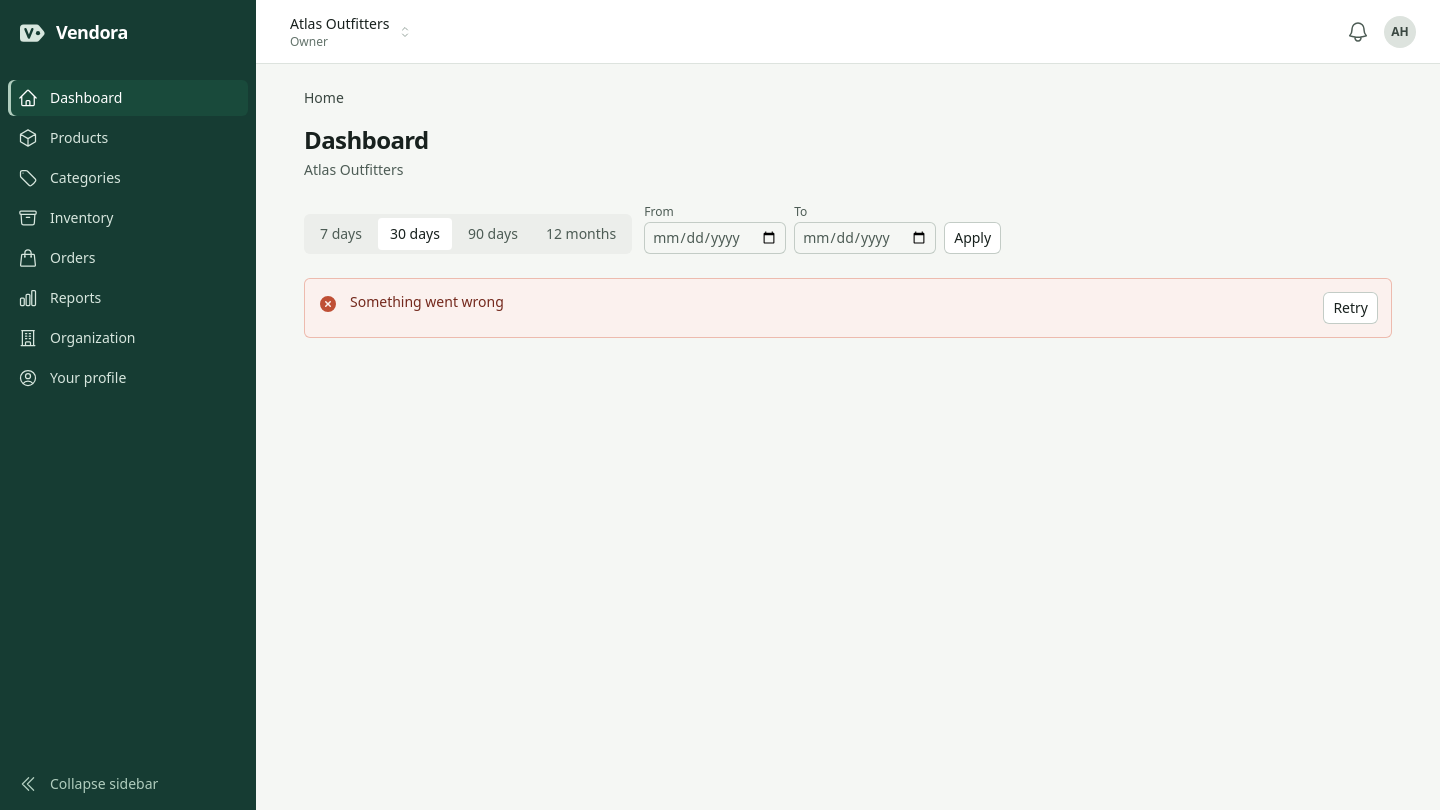
Test: dashboard › shows an error with a retry instead of stale or invented numbers
Expected: the text "Something went wrong" is shown, x1=350 y1=292 x2=504 y2=311
Expected: the text "Revenue" is not shown
Click the button "Retry".
click(1351, 308)  # box x1=1323 y1=292 x2=1378 y2=324
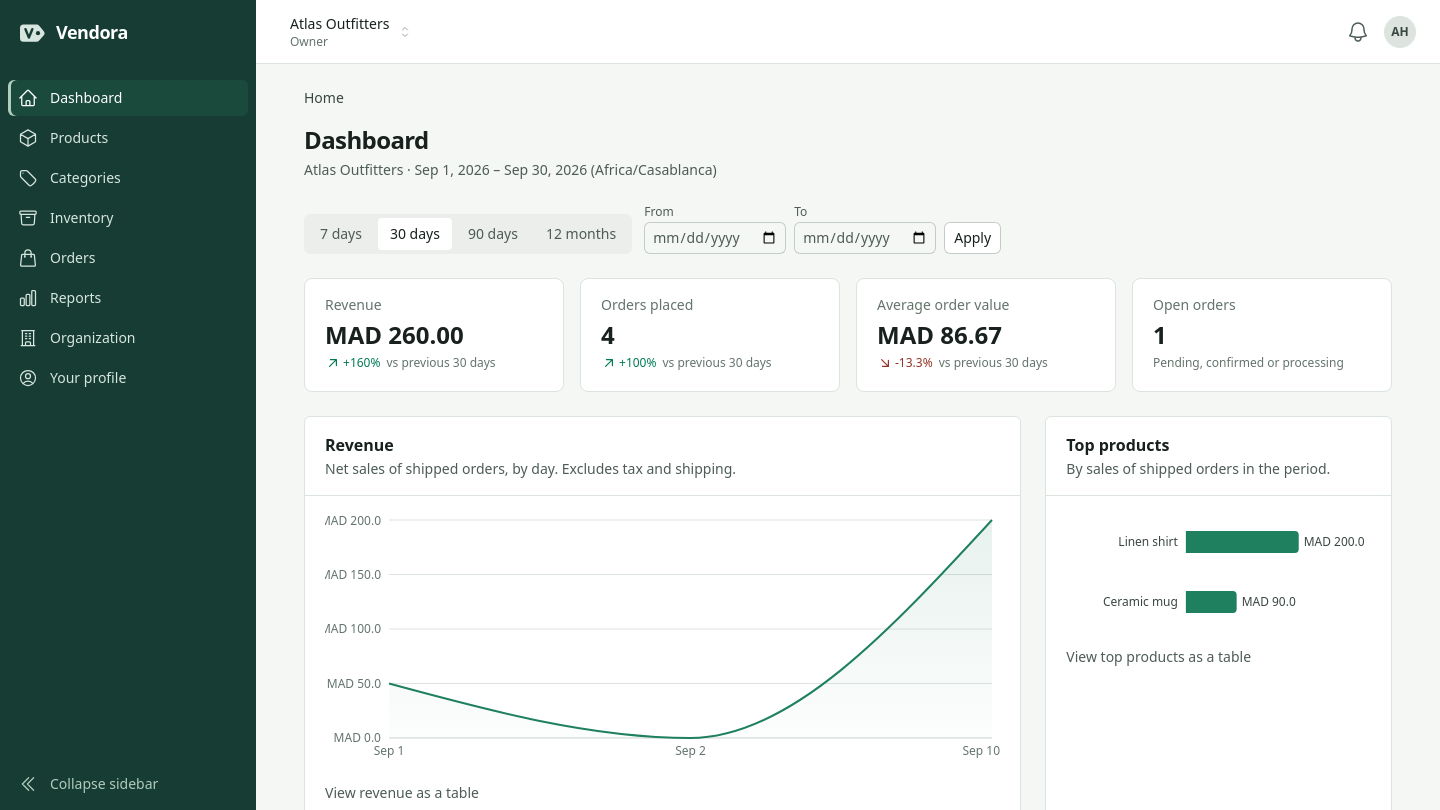
Result: the text "Revenue" is shown at x1=325 y1=295 x2=382 y2=314
